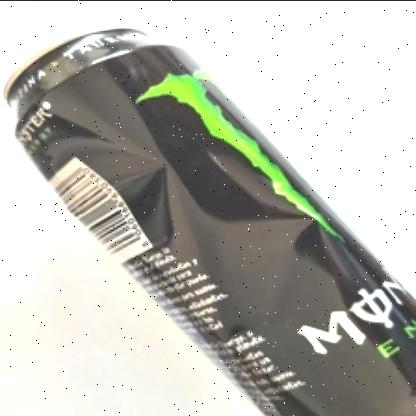Can: (0, 25, 416, 416)
